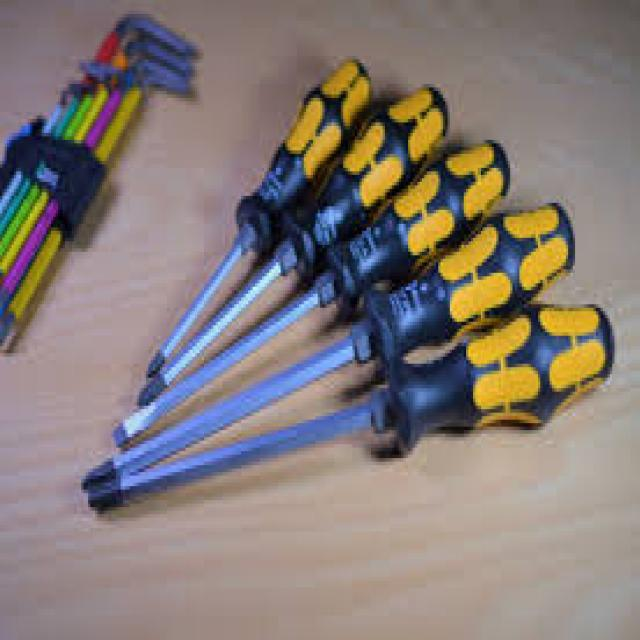screwdriver: (76, 197, 576, 495), (111, 134, 517, 453), (87, 300, 620, 522), (131, 82, 451, 411), (146, 52, 378, 382)
